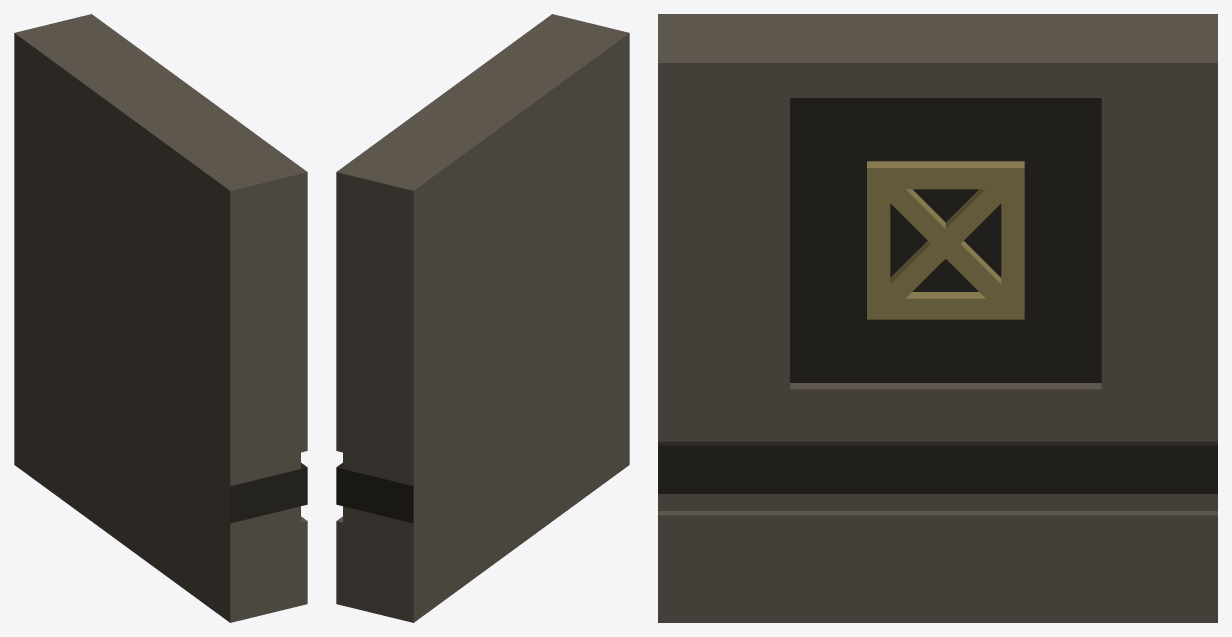
Rendered from Door.fbx.
3 renders of one model, left to right at view 1: azimuth 30°, elevation 25°; view 2: azimuth 150°, elevation 25°; view 3: azimuth 270°, elevation 25°, orthographic. The views are drawn at different scales.
Parts seen in each view (by area): view 1: Door; view 2: Door; view 3: Door.
Boxes of the visible parts, x1,y1,x2,y2 form: Door: (14, 14, 307, 622); Door: (336, 14, 629, 622); Door: (658, 14, 1217, 622).
Size of the model in its own units: 151 by 800 by 725.
